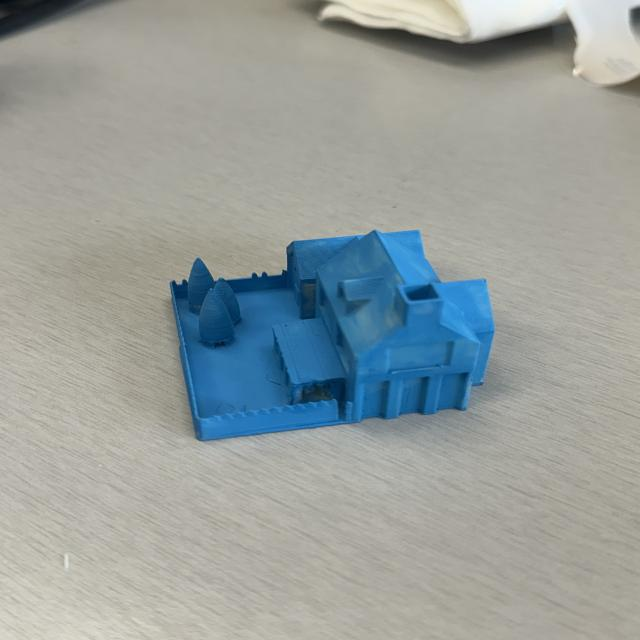house: (168, 228, 498, 442)
